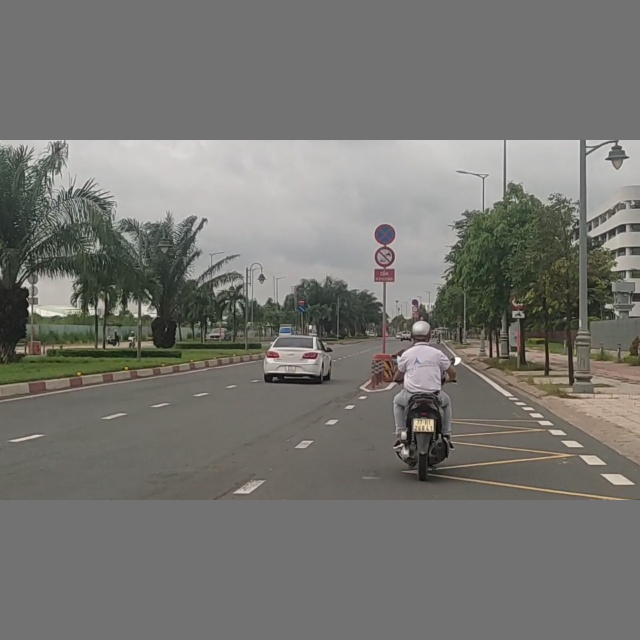P.111: (373, 245, 395, 268)
P.130: (373, 222, 396, 245)
